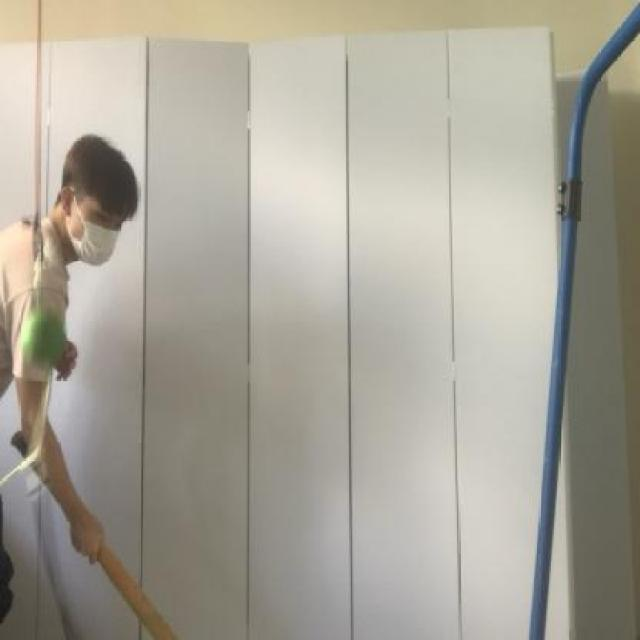baseball: (16, 304, 69, 367)
